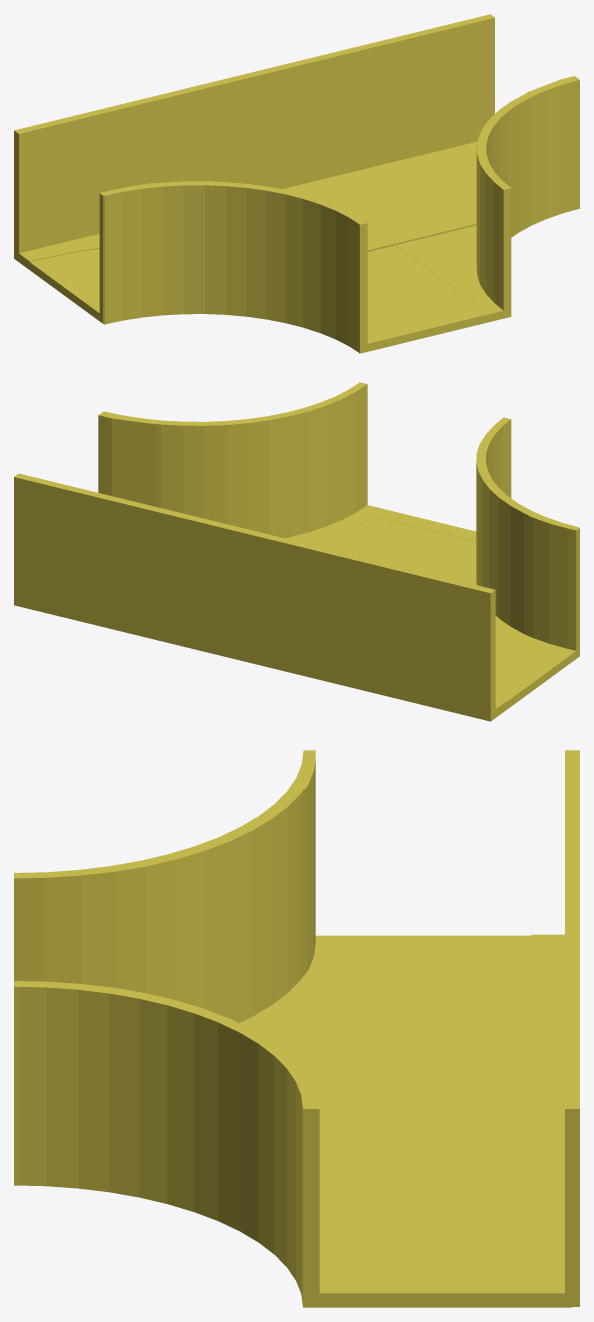
File: FRT4X4YL Panduit TEE.glb
3 renders of one model, top to bottom at view 1: azimuth 30°, elevation 25°; view 2: azimuth 150°, elevation 25°; view 3: azimuth 270°, elevation 25°, orthographic. The views are drawn at different scales.
Parts seen in each view (by area): view 1: Mesh_Mesh_head_geo.001_lambert2SG.001; view 2: Mesh_Mesh_head_geo.001_lambert2SG.001; view 3: Mesh_Mesh_head_geo.001_lambert2SG.001.
Boxes of the visible parts, x1=… form: Mesh_Mesh_head_geo.001_lambert2SG.001: x1=14, y1=14, x2=579, y2=353; Mesh_Mesh_head_geo.001_lambert2SG.001: x1=14, y1=382, x2=579, y2=721; Mesh_Mesh_head_geo.001_lambert2SG.001: x1=14, y1=750, x2=579, y2=1307.
Size of the model in its own units: 43.84 by 11.32 by 29.22.
